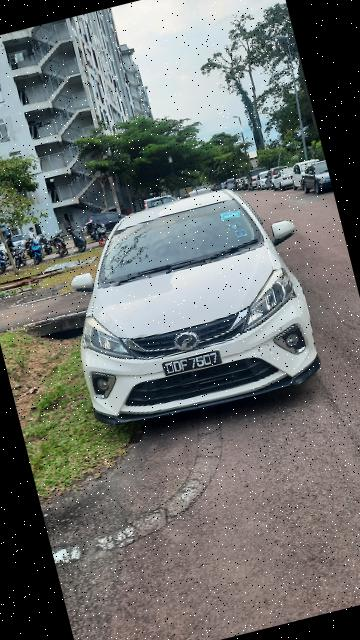License_Plate: (161, 347, 230, 382)
car: (46, 173, 341, 449)
